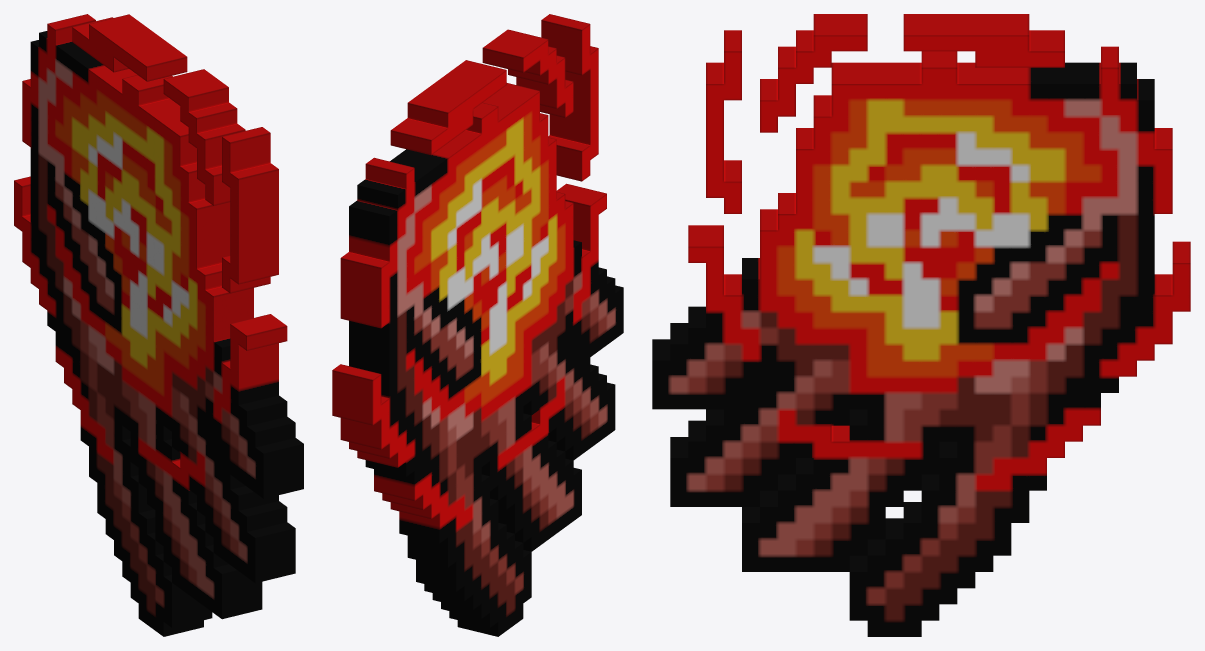
File: 021-Equipment_PyromancyFlame.fbx
The picture shows the model from 3 angles, left to right: view 1: azimuth 30°, elevation 25°; view 2: azimuth 150°, elevation 25°; view 3: azimuth 270°, elevation 25°; orthographic projection. The views are drawn at different scales.
Visible parts, largest first — view 1: Equipments21; view 2: Equipments21; view 3: Equipments21.
Part boxes in pixels (x1,y1,x2,y2): Equipments21: (14, 14, 303, 636); Equipments21: (332, 14, 623, 636); Equipments21: (652, 14, 1190, 636).
Size of the model in its own units: 0.05 by 0.6607 by 0.5357.
1 material, 1 textured.
